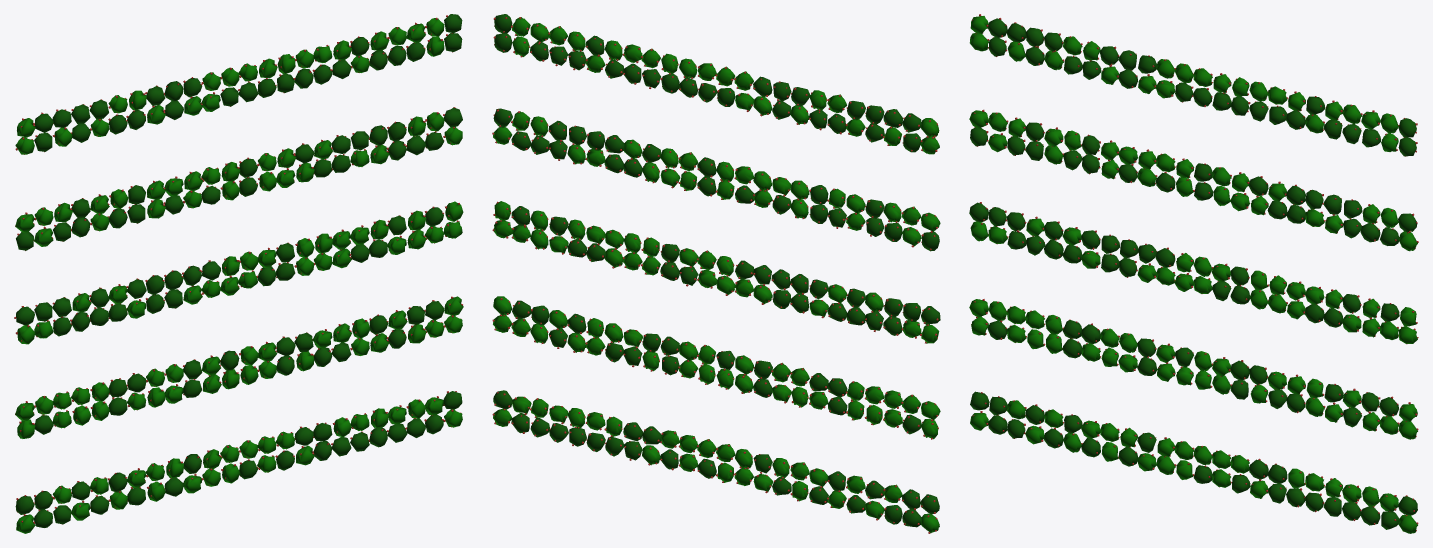
File: strawberry_field.obj
The picture shows the model from 3 angles, left to right: view 1: azimuth 30°, elevation 25°; view 2: azimuth 150°, elevation 25°; view 3: azimuth 330°, elevation 25°; orthographic projection.
Visible parts, largest first — view 1: P_0_Shrub_Mesh.001; view 2: P_0_Shrub_Mesh.001; view 3: P_0_Shrub_Mesh.001.
Part boxes in pixels (x1,y1,x2,y2): P_0_Shrub_Mesh.001: (14, 14, 463, 533); P_0_Shrub_Mesh.001: (492, 14, 940, 533); P_0_Shrub_Mesh.001: (969, 14, 1418, 533).
Bounding box in the file's own units: 19.86 × 17.68 × 0.6204.
3 materials, 1 textured.
